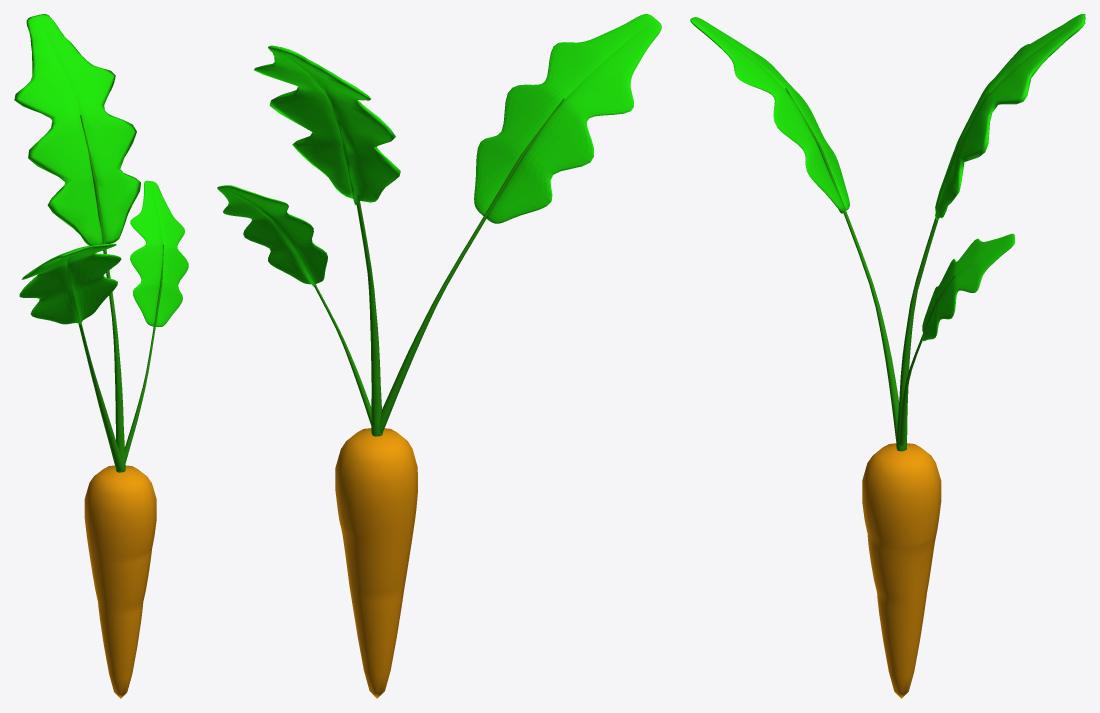
The model's file is CarrotStage4.fbx.
3 views of the same model, side by side, from view 1: azimuth 30°, elevation 25°; view 2: azimuth 150°, elevation 25°; view 3: azimuth 270°, elevation 25° (orthographic). The views are drawn at different scales.
Visible parts, largest first — view 1: Stem.001, Carrot.001, Cylinder.006, Cylinder.009; view 2: Cylinder.006, Carrot.001, Stem.001, Cylinder.009; view 3: Carrot.001, Cylinder.006, Stem.001, Cylinder.009.
Part boxes in pixels (x1,y1,x2,y2): Stem.001: (14, 14, 140, 472); Carrot.001: (84, 465, 156, 698); Cylinder.006: (19, 243, 122, 470); Cylinder.009: (125, 180, 188, 463); Cylinder.006: (379, 14, 661, 433); Carrot.001: (335, 428, 417, 698); Stem.001: (254, 45, 400, 436); Cylinder.009: (217, 185, 371, 425); Carrot.001: (862, 443, 941, 698); Cylinder.006: (690, 17, 898, 441); Stem.001: (896, 14, 1085, 451); Cylinder.009: (899, 233, 1014, 445).
Bounding box in the file's own units: 407 × 939 × 494.
